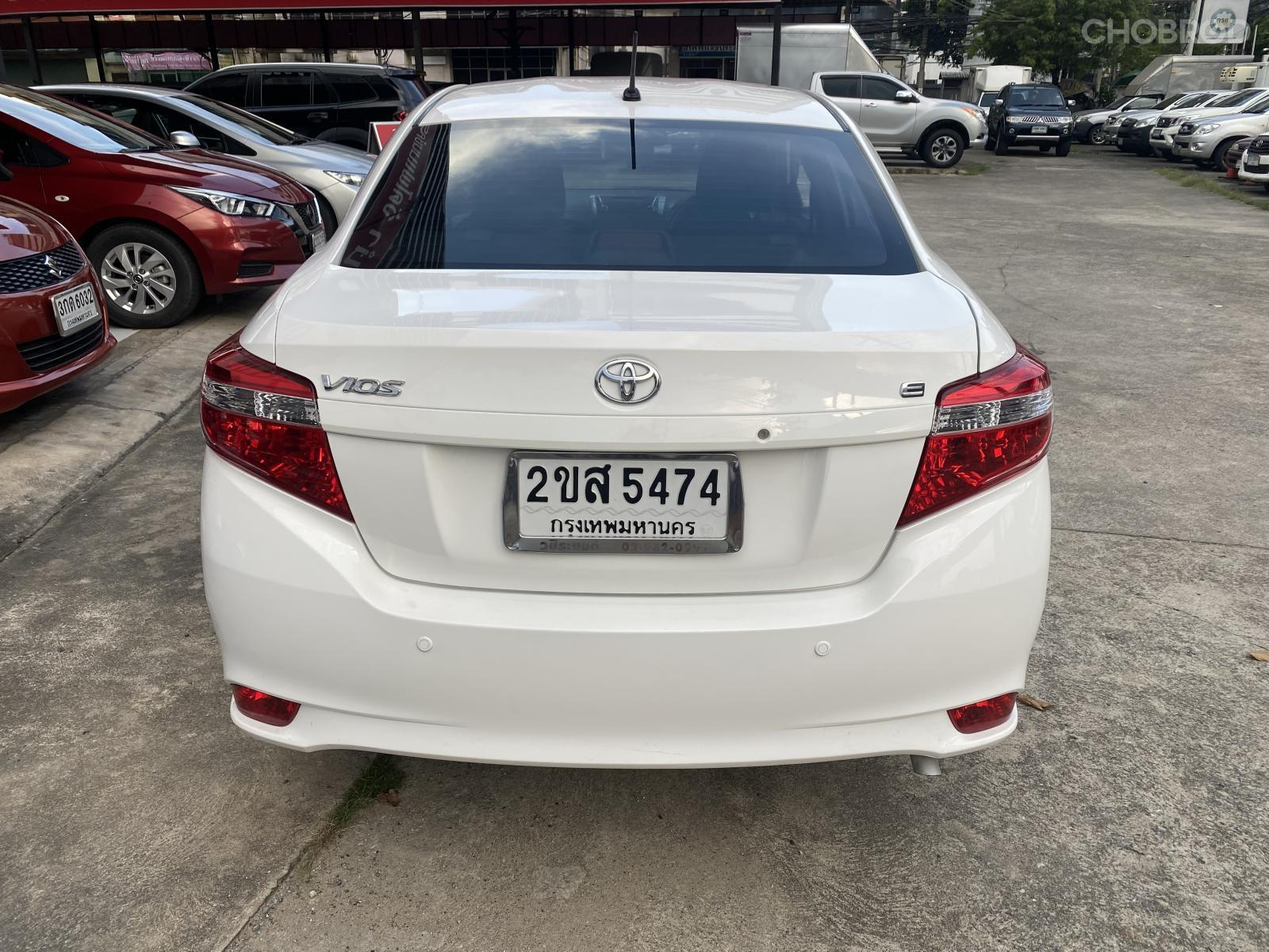license-plate: (500, 444, 743, 555), (51, 280, 106, 335)
